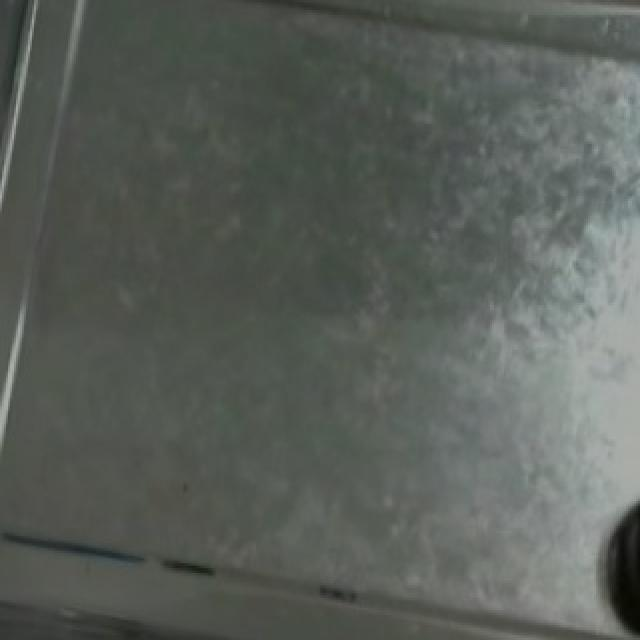Fruit: (598, 481, 640, 635)
